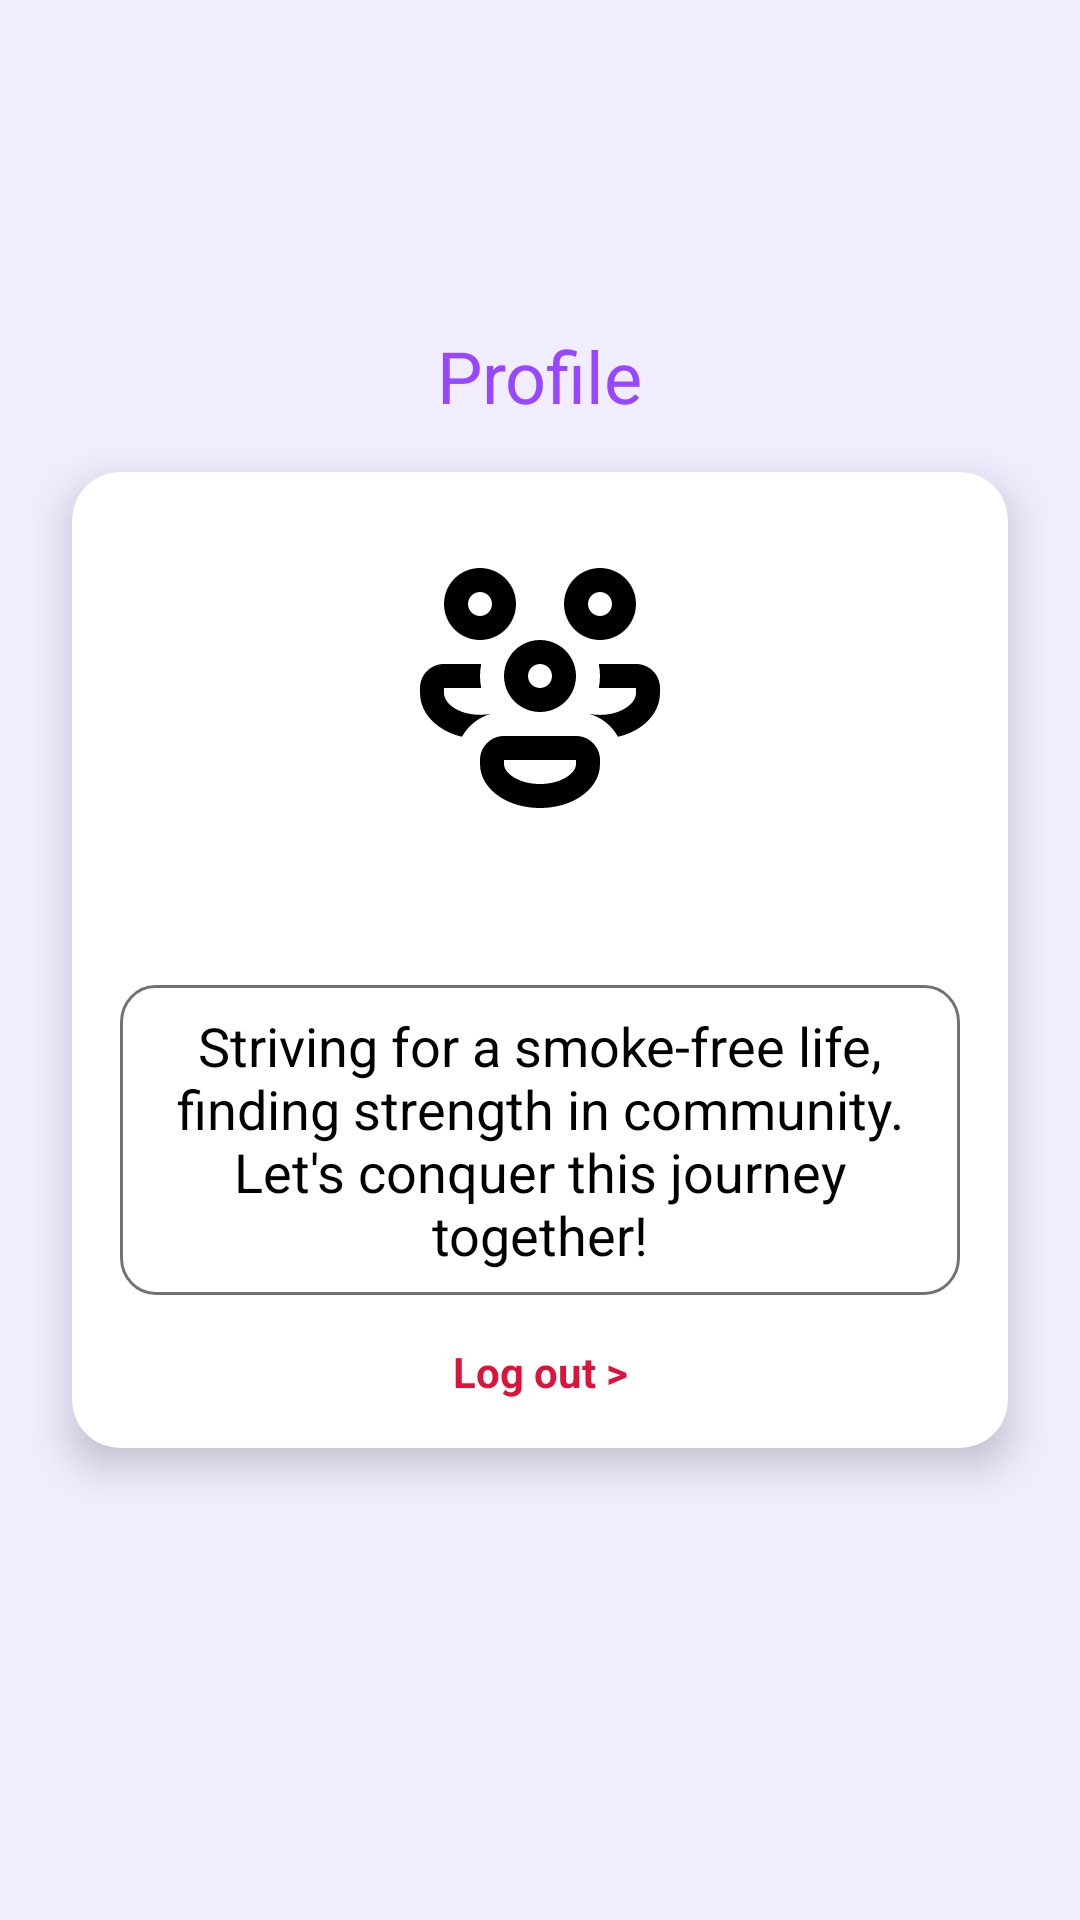

Locate icon controls on the screen. Image size 1080w x 1920h, boxes as (x1, y1, x2, y2).
community: (420, 568, 660, 808)
